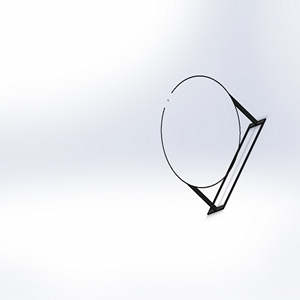circle: (156, 72, 268, 217)
